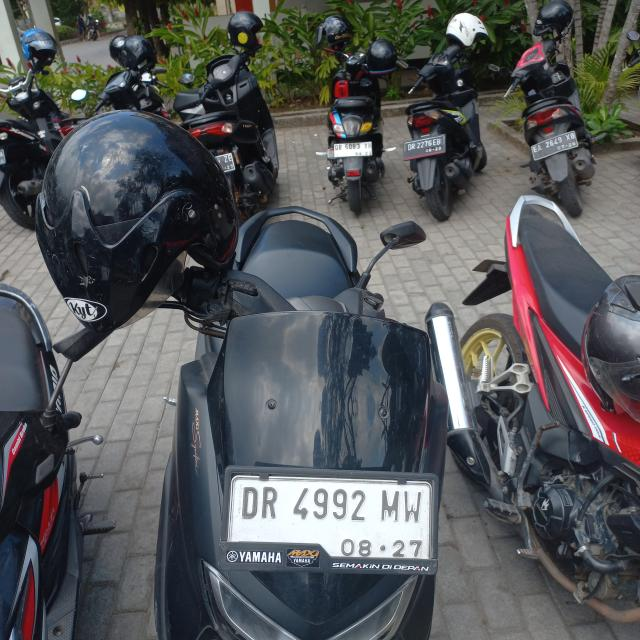plate: (228, 474, 432, 562), (529, 130, 579, 161), (404, 135, 445, 158), (334, 142, 373, 157)
